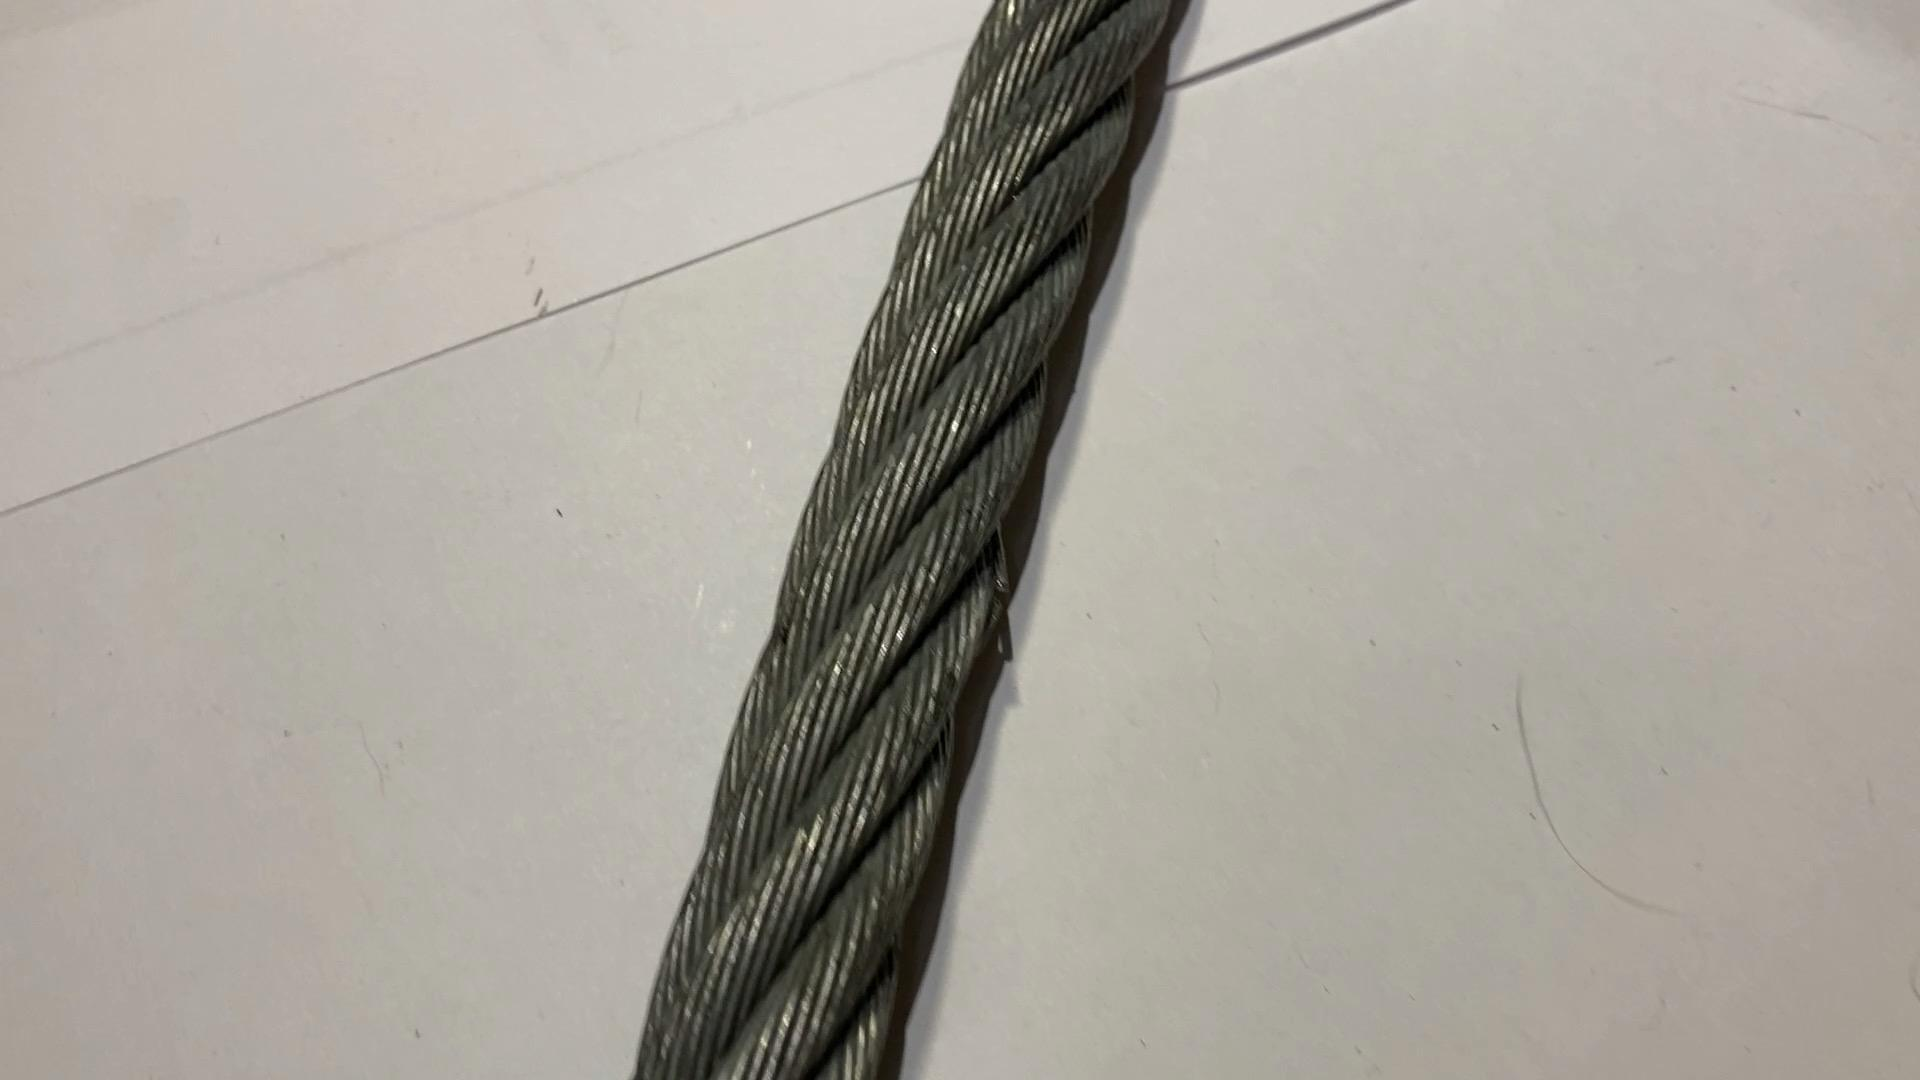break: (978, 539, 1019, 626)
